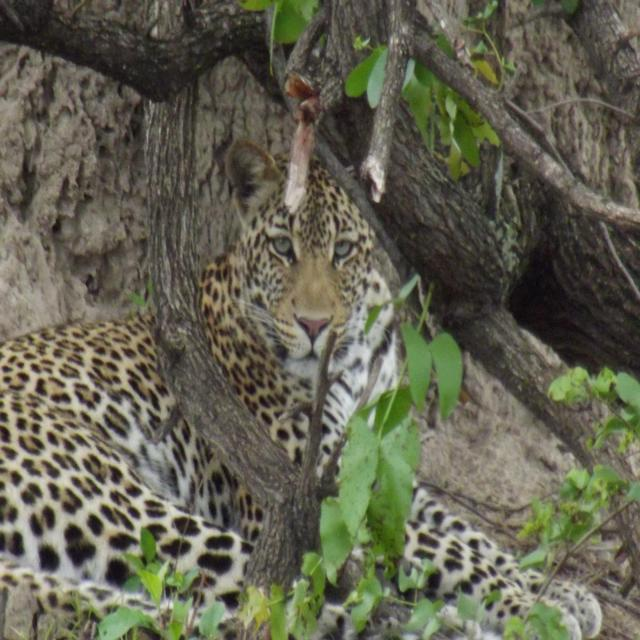Leopard: (0, 118, 612, 640)
